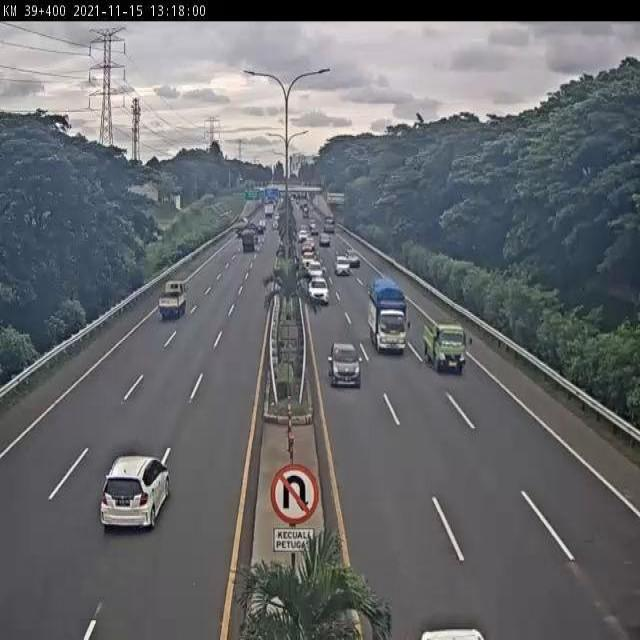Car: (80, 446, 180, 550), (328, 340, 367, 388), (310, 276, 330, 301), (238, 229, 256, 252), (335, 254, 351, 274), (300, 250, 317, 267), (308, 262, 323, 281), (295, 228, 309, 243), (346, 250, 359, 266), (320, 232, 332, 246)
Truck: (366, 280, 409, 356), (421, 312, 468, 376), (156, 282, 190, 322), (264, 201, 274, 218)
